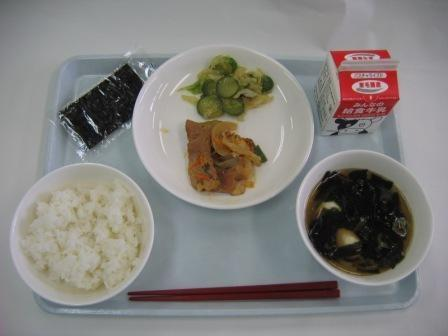Milk: (313, 39, 422, 146)
Rice: (3, 160, 152, 301)
Soups: (294, 155, 430, 285)
salad with sauce: (185, 54, 276, 115)
vegetable based cooked food: (171, 120, 269, 197)
